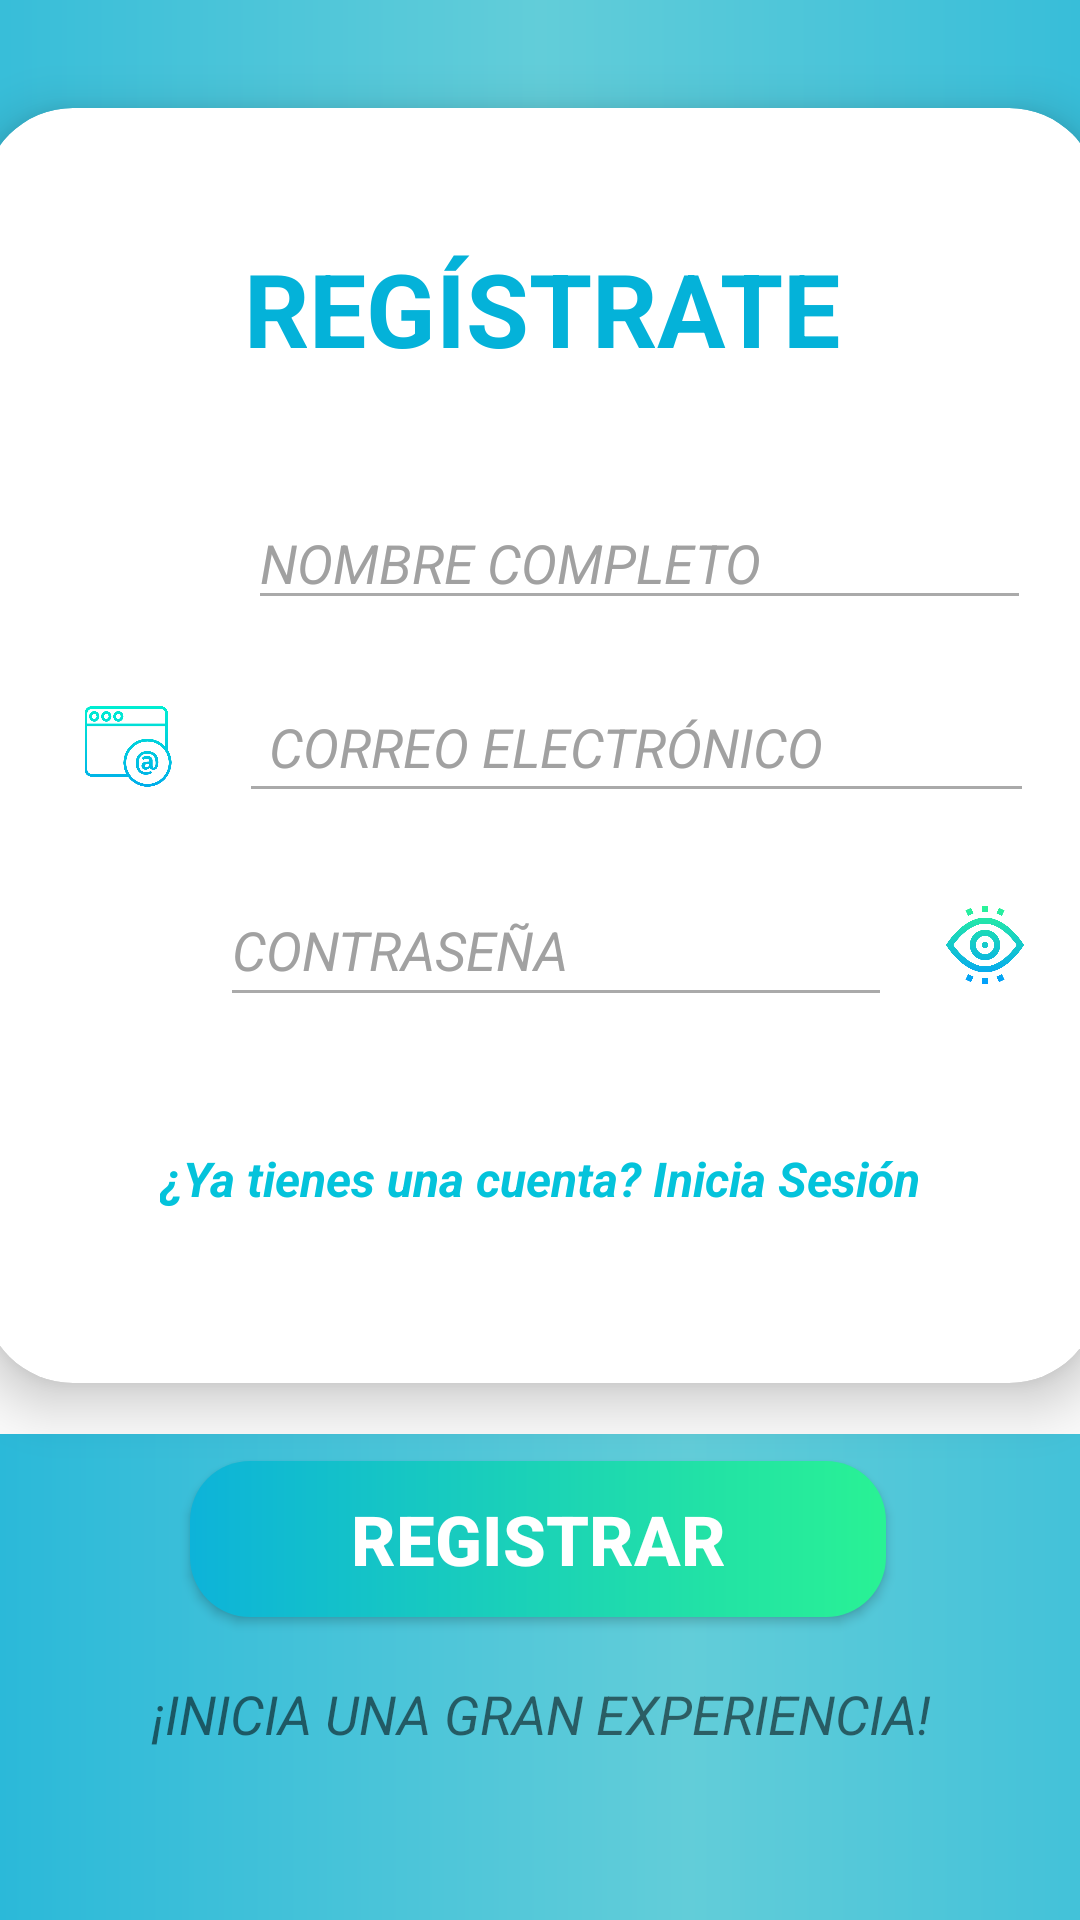

Screen size 1080×1920. Icon name, then its box in pixels as [x1, y1, x2, y2]:
Email Icon: [85, 706, 172, 787]
Show/Hide Password: [946, 906, 1024, 984]
